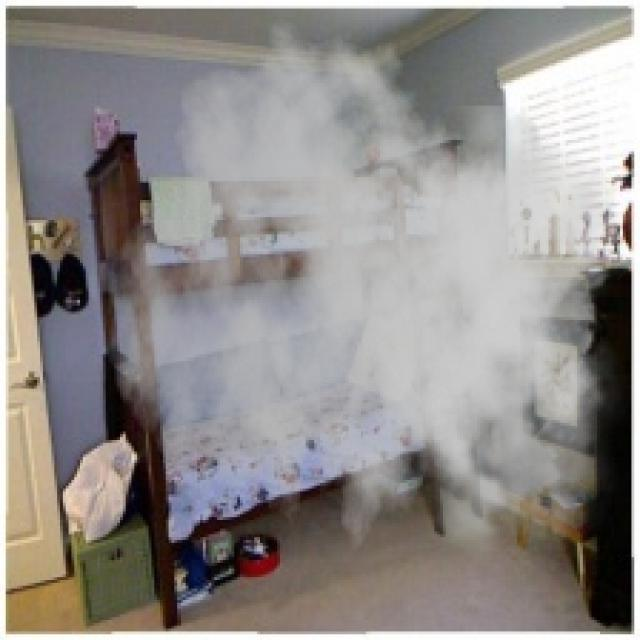Smoke: (105, 20, 638, 586)
